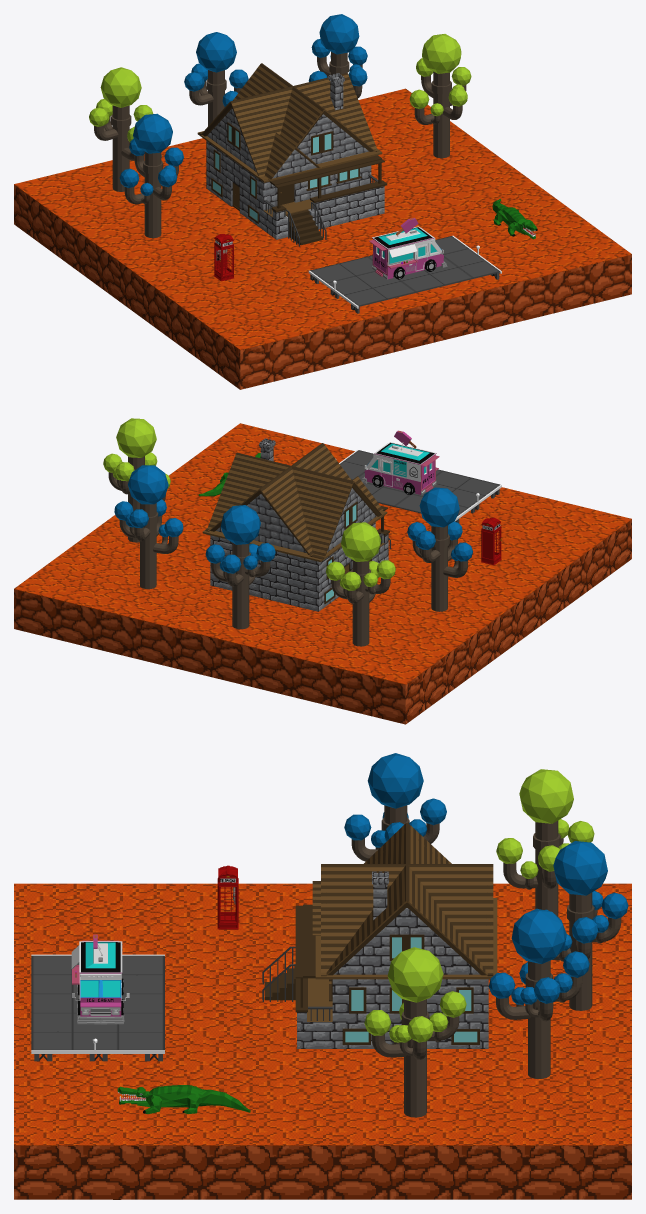
The picture shows the model from 3 angles, top to bottom: view 1: azimuth 30°, elevation 25°; view 2: azimuth 150°, elevation 25°; view 3: azimuth 270°, elevation 25°; orthographic projection. The views are drawn at different scales.
Visible parts, largest first — view 1: Cube.001, Cube.586, VEHICLES_ICE_CREAM_TRUCK, ANIMAL_COCODRILO, OBJRANDOM_PHONEBOOTH; view 2: Cube.001, Cube.586, VEHICLES_ICE_CREAM_TRUCK, OBJRANDOM_PHONEBOOTH; view 3: Cube.001, Cube.586, VEHICLES_ICE_CREAM_TRUCK, ANIMAL_COCODRILO, OBJRANDOM_PHONEBOOTH.
Part boxes in pixels (left/top/right/bottom): Cube.001: left=14, top=14, right=631, bottom=389; Cube.586: left=197, top=63, right=387, bottom=246; VEHICLES_ICE_CREAM_TRUCK: left=369, top=218, right=447, bottom=279; ANIMAL_COCODRILO: left=492, top=198, right=537, bottom=239; OBJRANDOM_PHONEBOOTH: left=213, top=234, right=233, bottom=281; Cube.001: left=14, top=418, right=631, bottom=724; Cube.586: left=202, top=438, right=390, bottom=611; VEHICLES_ICE_CREAM_TRUCK: left=361, top=430, right=439, bottom=494; OBJRANDOM_PHONEBOOTH: left=481, top=517, right=501, bottom=565; Cube.001: left=14, top=753, right=631, bottom=1199; Cube.586: left=262, top=823, right=497, bottom=1048; VEHICLES_ICE_CREAM_TRUCK: left=71, top=934, right=129, bottom=1024; ANIMAL_COCODRILO: left=117, top=1085, right=250, bottom=1114; OBJRANDOM_PHONEBOOTH: left=217, top=865, right=238, bottom=929.
Size of the model in its own units: 4000 by 1637 by 4000.
45 materials, 5 textured.
